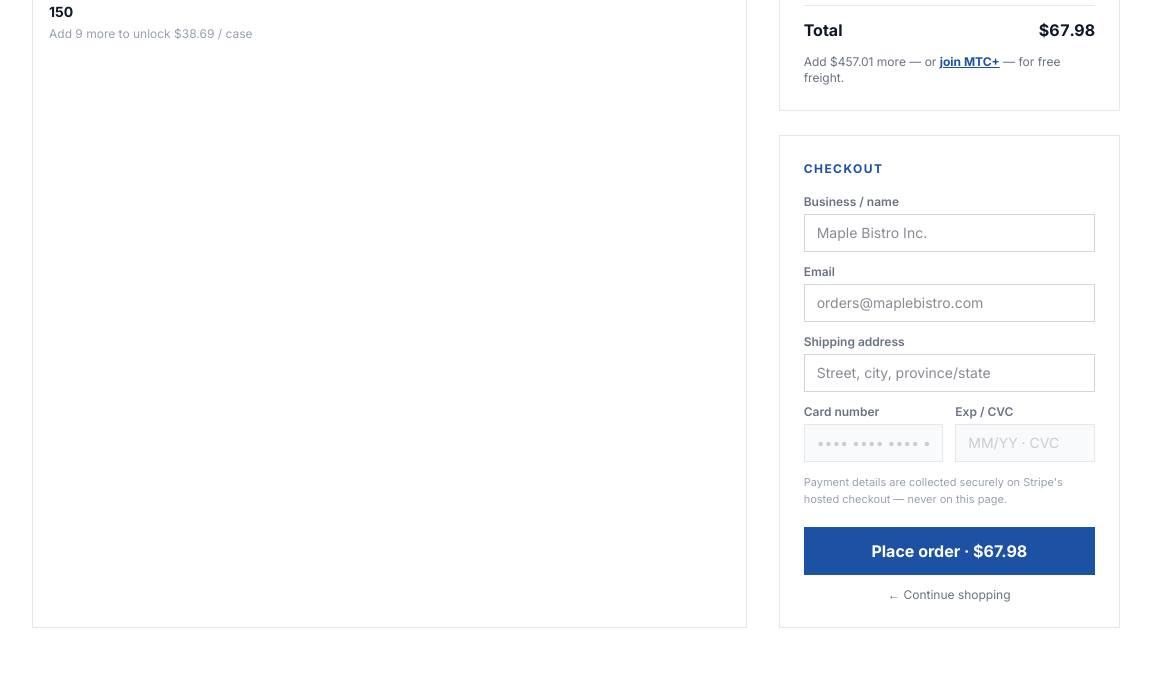
CartPage — checkout › shows an error message and re-enables the button if checkout fails
(page scrolled)
Click the button "Place order · $67.98" at (949, 551), box [804,527,1095,575]
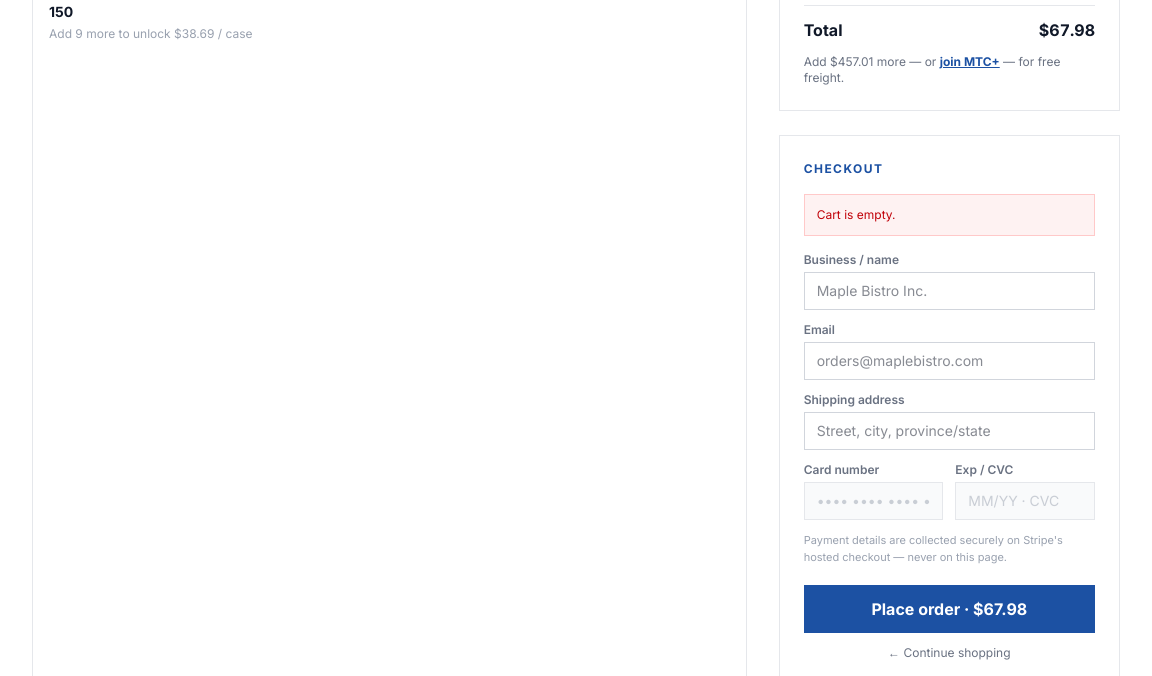
Expected: the button "Place order · $67.98" is enabled, [804,585,1095,633]
Now the text "Cart is empty." is shown, box [804,194,1095,236]
